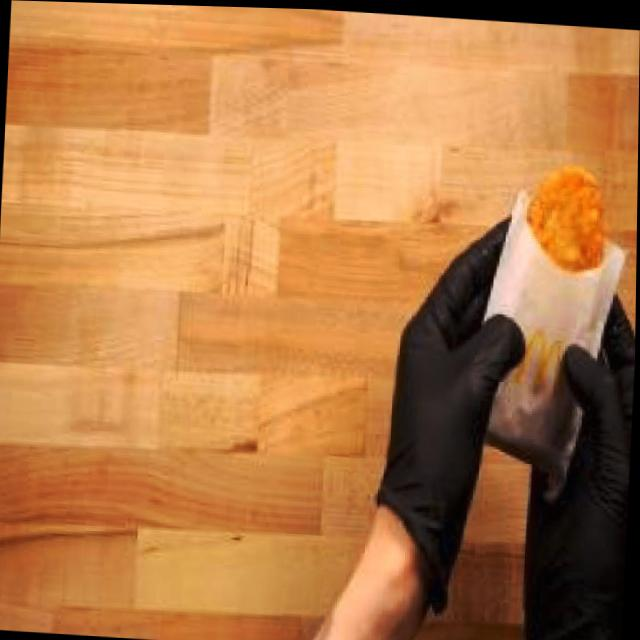Hashbrown: (525, 162, 610, 272)
